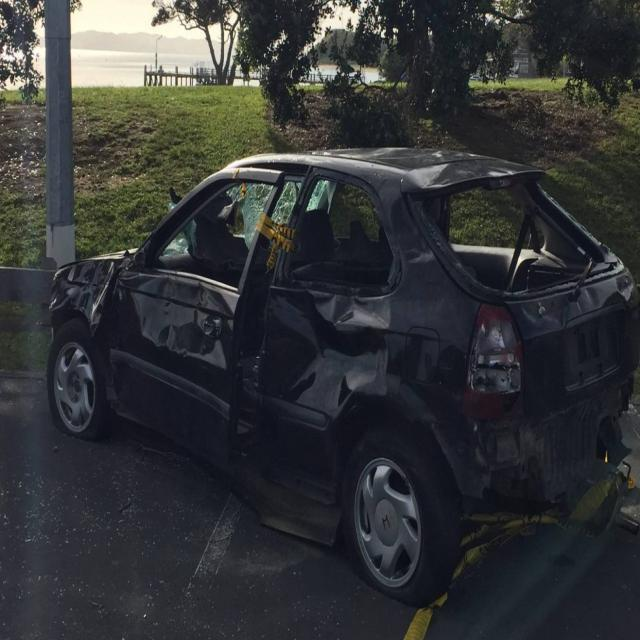Taillight-Damage: (470, 306, 530, 420)
doorouter-dent: (230, 280, 393, 480), (114, 276, 238, 476)
fender-dent: (52, 266, 110, 368)
